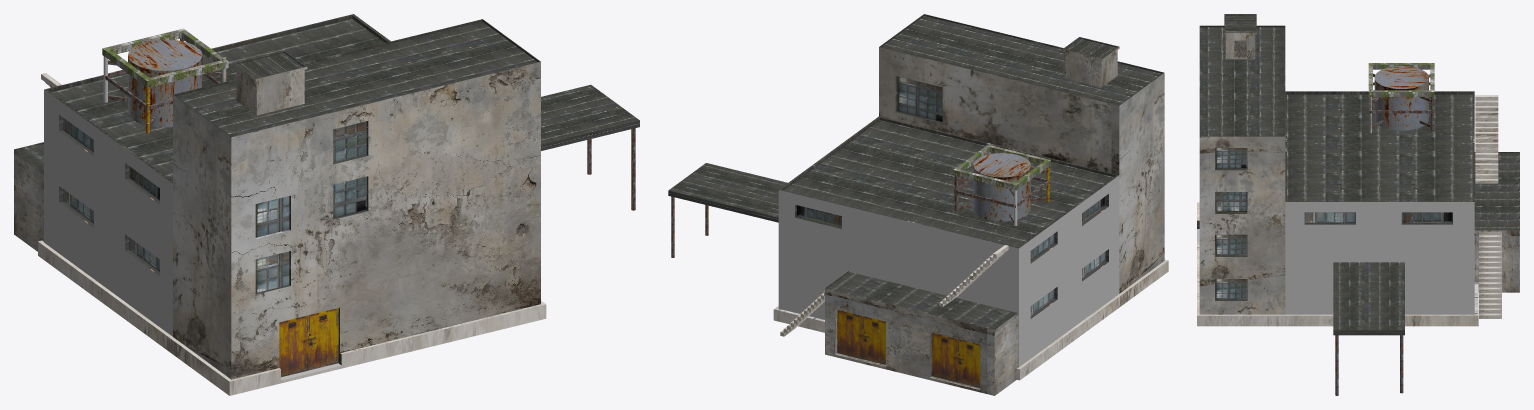
File: Stroenie_012 1.fbx
3 views of the same model, side by side, from view 1: azimuth 30°, elevation 25°; view 2: azimuth 150°, elevation 25°; view 3: azimuth 270°, elevation 25° (orthographic). The views are drawn at different scales.
Parts seen in each view (by area): view 1: Cube.020; view 2: Cube.020; view 3: Cube.020.
Part boxes in pixels (left/top/right/bottom): Cube.020: left=14, top=14, right=639, bottom=395; Cube.020: left=668, top=14, right=1168, bottom=395; Cube.020: left=1197, top=14, right=1519, bottom=395.
Bounding box in the file's own units: 630 × 356 × 477.
